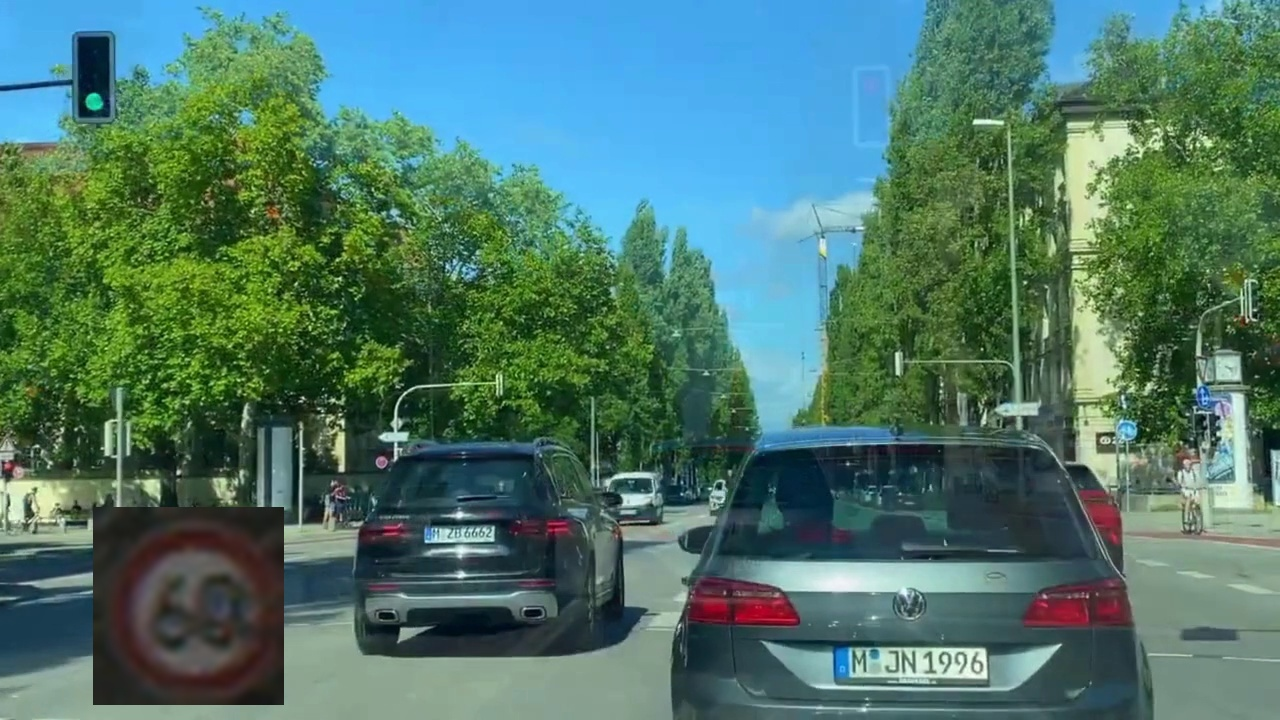Speed 60: (93, 507, 284, 705)
